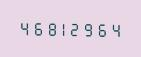eight: (43, 19, 55, 36)
four: (17, 19, 29, 36), (108, 20, 120, 37)
nine: (82, 20, 94, 37)
one: (56, 19, 68, 36)
six: (30, 19, 42, 36), (95, 20, 107, 37)
two: (69, 19, 81, 37)
